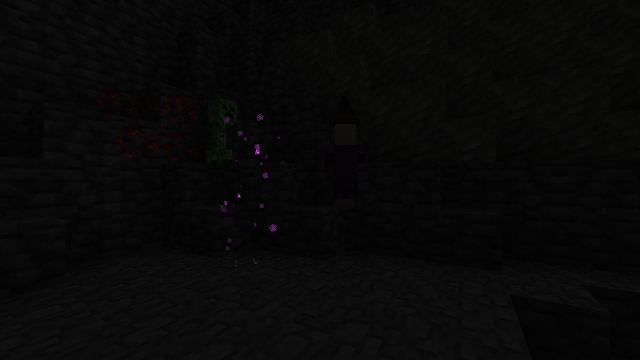creepers: (205, 94, 239, 165)
sorcieres: (327, 118, 361, 207)
